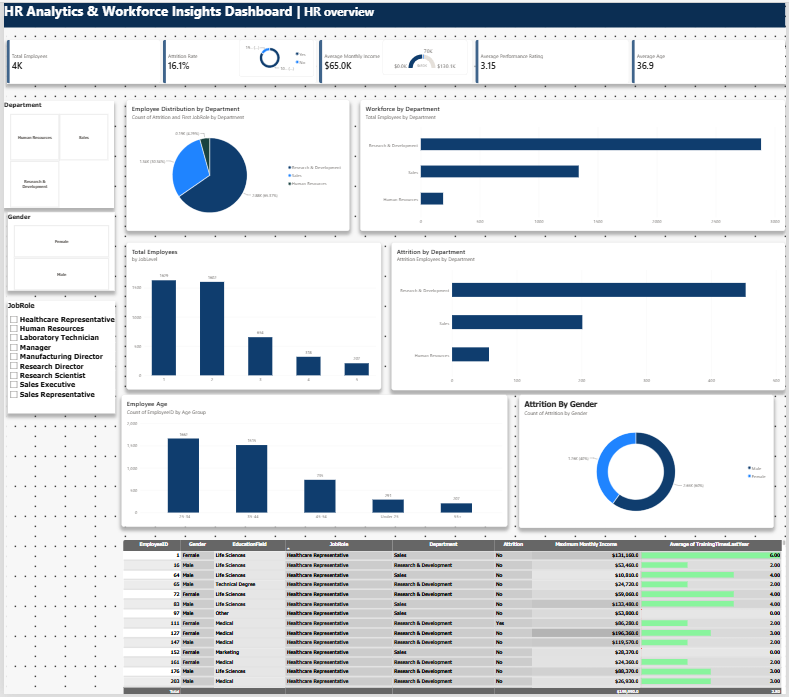

This screenshot's page, from the dashboard's own definition file:
{"tool":"powerbi","page":{"name":"HR Overview","canvas":[2500,2300],"ordinal":0},"visuals":[{"type":"cardVisual","fields":{"Data":["Measure.Total Employees","Measure.Attrition Rate","Measure.Average Monthly Income","Measure.Average Performance Rating","Measure.Average Age"]},"box":[7.5,202.5,2492.5,140],"z":0},{"type":"pieChart","title":"Employee Distribution by Department","fields":{"Category":["Employee.Department"],"Y":["CountNonNull(Attrition.Attrition)"]},"box":[393.3,397.8,713.3,420],"z":1000},{"type":"barChart","title":"Workforce by Department","fields":{"Category":["Employee.Department"],"Y":["Measure.Total Employees"]},"box":[1140,396.7,1360,420],"z":2000},{"type":"barChart","title":"Attrition by Department","fields":{"Category":["Jop Informatioin.Department"],"Y":["Measure.Attrition Employees"]},"box":[1240,850,1260,473.3],"z":3000},{"type":"columnChart","fields":{"Category":["Jop Informatioin.JobLevel"],"Y":["Measure.Total Employees"]},"box":[393.3,851.1,815.6,471.1],"z":4000},{"type":"clusteredColumnChart","title":"Employee Age","fields":{"Category":["Employee.Age Group"],"Y":["CountNonNull(Employee.EmployeeID)"]},"box":[377.8,1340,1235.6,422.2],"z":5000},{"type":"tableEx","fields":{"Values":["Employee.EmployeeID","Employee.Gender","Employee.EducationField","Employee.JobRole","Jop Informatioin.Department","Attrition.Attrition","Measure.Maximum Monthly Income","Avg(Employee Training.TrainingTimesLastYear)"]},"box":[378,1802,2122,498],"z":6000},{"type":"slicer","title":"Department","fields":{"Values":["Jop Informatioin.Department"]},"box":[0,398,352,342],"z":7000},{"type":"slicer","title":"JobRole","fields":{"Values":["Jop Informatioin.JobRole"]},"box":[11.1,1040,344,360],"z":8000},{"type":"slicer","title":"Gender","fields":{"Values":["Employee.Gender"]},"box":[11.1,757.8,342.2,251.1],"z":9000},{"type":"donutChart","fields":{"Category":["Attrition.Attrition"],"Y":["Measure.Attrition Rate"]},"box":[752,204,240,117.5],"z":10000},{"type":"gauge","fields":{"TargetValue":["Measure.Average Monthly Income Target"],"Y":["Measure.Average Monthly Income"]},"box":[1210,202.5,270,112.5],"z":11000},{"type":"textbox","box":[0,80,2500,85],"z":12000},{"type":"donutChart","title":"Attrition By Gender","fields":{"Category":["Employee.Gender"],"Y":["CountNonNull(Attrition.Attrition)"]},"box":[1648.9,1340,815.6,426.7],"z":13000}]}

Visuals, with their boxes on the page's 2500x2300 design canvas (x1, y1, x2, y2). These are canvas units, not pixel positions in the 789x697 screenshot, which may show the page scaled, cropped or inside an application window:
cardVisual - Measure.Total Employees x Measure.Attrition Rate: [8, 202, 2500, 342]
"Employee Distribution by Department" pieChart: [393, 398, 1107, 818]
"Workforce by Department" barChart: [1140, 397, 2500, 817]
"Attrition by Department" barChart: [1240, 850, 2500, 1323]
columnChart - Jop Informatioin.JobLevel x Measure.Total Employees: [393, 851, 1209, 1322]
"Employee Age" clusteredColumnChart: [378, 1340, 1613, 1762]
tableEx - Employee.EmployeeID x Employee.Gender: [378, 1802, 2500, 2300]
"Department" slicer: [0, 398, 352, 740]
"JobRole" slicer: [11, 1040, 355, 1400]
"Gender" slicer: [11, 758, 353, 1009]
donutChart - Attrition.Attrition x Measure.Attrition Rate: [752, 204, 992, 322]
gauge - Measure.Average Monthly Income Target x Measure.Average Monthly Income: [1210, 202, 1480, 315]
textbox: [0, 80, 2500, 165]
"Attrition By Gender" donutChart: [1649, 1340, 2464, 1767]
